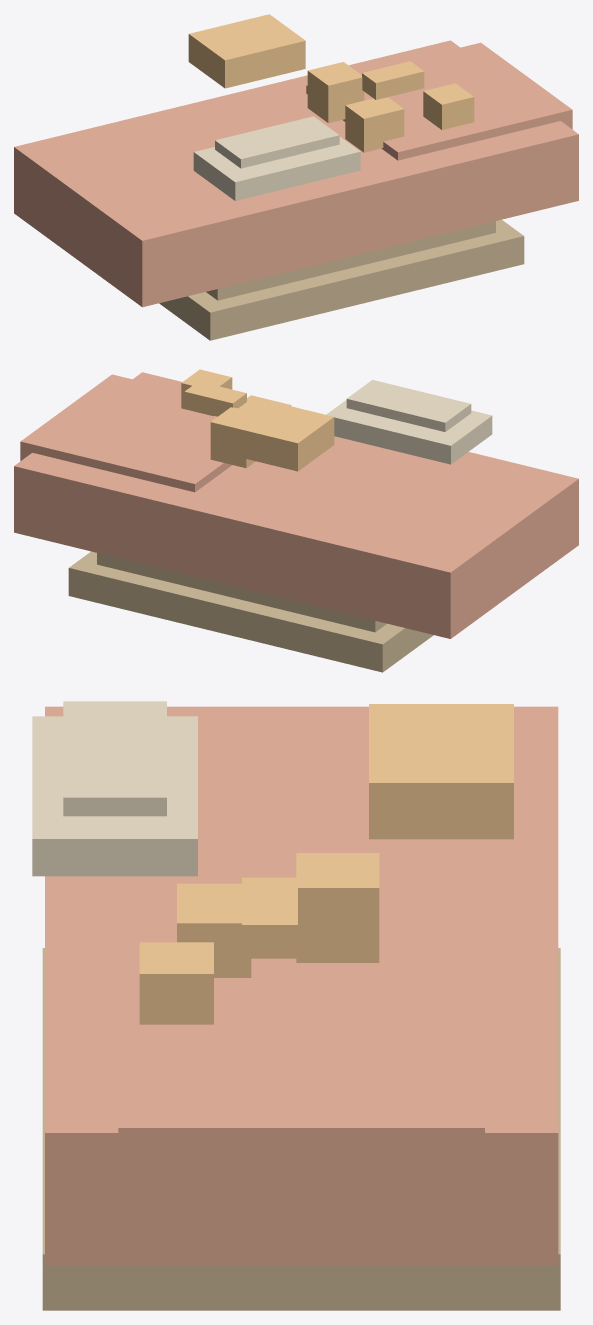
The model's file is product_roasted_fillet.glb.
The picture shows the model from 3 angles, top to bottom: view 1: azimuth 30°, elevation 25°; view 2: azimuth 150°, elevation 25°; view 3: azimuth 270°, elevation 25°; orthographic projection. The views are drawn at different scales.
Parts seen in each view (by area): view 1: ProductArt_body, ProductArt_platter, ProductArt_label, ProductArt_accent, ProductArt_garnish; view 2: ProductArt_body, ProductArt_platter, ProductArt_label, ProductArt_accent, ProductArt_garnish; view 3: ProductArt_body, ProductArt_accent, ProductArt_label, ProductArt_platter, ProductArt_garnish.
Boxes of the visible parts, x1,y1,x2,y2 form: ProductArt_body: [14, 40, 578, 307]; ProductArt_platter: [159, 219, 524, 340]; ProductArt_label: [193, 116, 360, 200]; ProductArt_accent: [188, 14, 364, 123]; ProductArt_garnish: [345, 61, 474, 152]; ProductArt_body: [14, 372, 578, 638]; ProductArt_platter: [68, 551, 433, 672]; ProductArt_label: [326, 380, 492, 464]; ProductArt_accent: [210, 397, 334, 471]; ProductArt_garnish: [181, 369, 291, 416]; ProductArt_body: [45, 706, 558, 1265]; ProductArt_accent: [296, 704, 513, 962]; ProductArt_label: [32, 701, 197, 876]; ProductArt_platter: [42, 948, 560, 1310]; ProductArt_garnish: [139, 877, 297, 1024].
Size of the model in its own units: 0.24 by 0.1008 by 0.1224.
